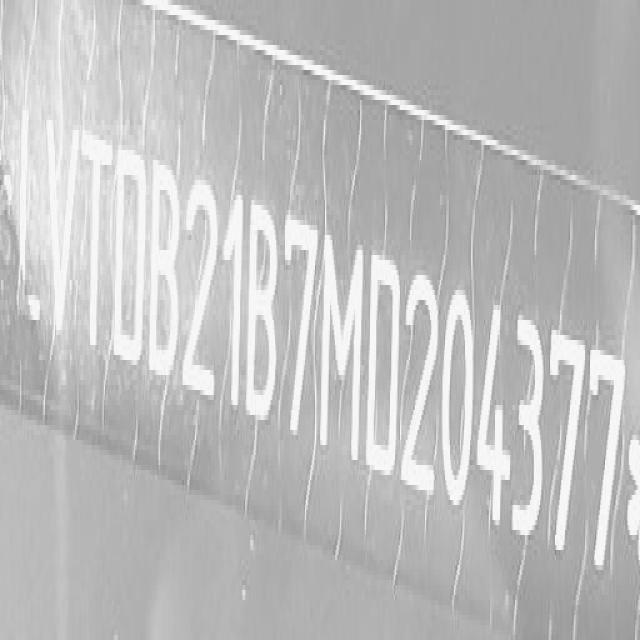0: (444, 285, 476, 513)
1: (224, 184, 244, 418)
2: (188, 170, 220, 402), (406, 276, 438, 504)
3: (515, 306, 545, 546)
4: (479, 302, 511, 536)
7: (550, 323, 583, 565), (286, 208, 319, 447), (593, 342, 624, 578)
B: (150, 156, 183, 384), (248, 194, 277, 427)
D: (369, 250, 403, 487), (114, 147, 148, 375)
L: (17, 108, 41, 332)
M: (320, 230, 364, 471)
T: (83, 123, 111, 360)
V: (46, 119, 82, 334)
